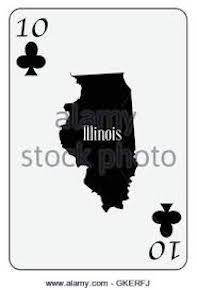TenOfClubs: (9, 4, 190, 274)
